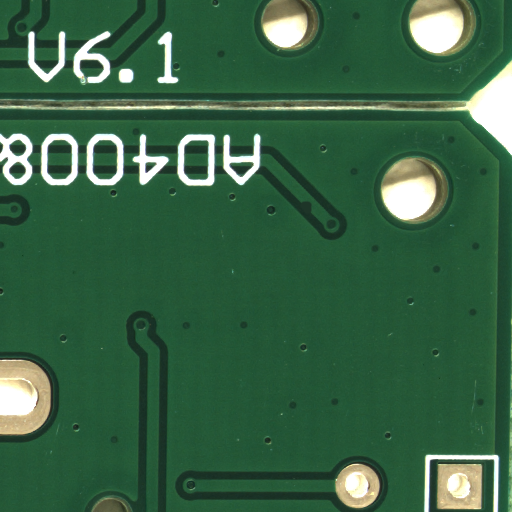Mouse_bite: (307, 207, 318, 219)
